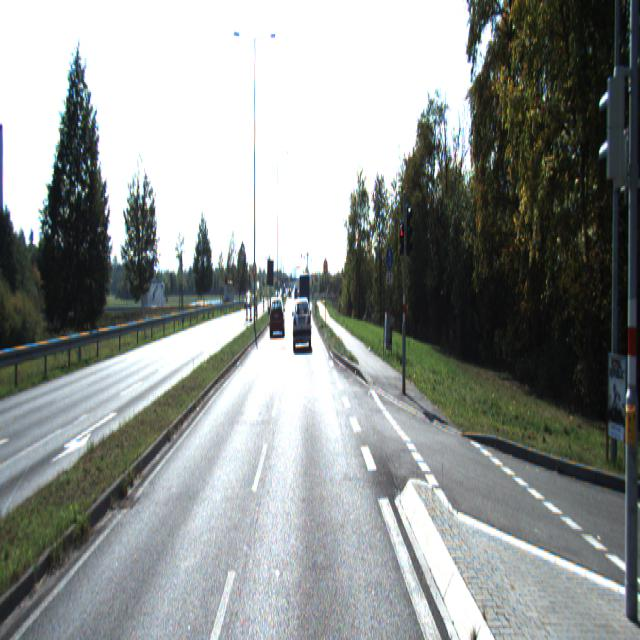Car: (293, 302, 311, 352), (298, 272, 310, 324), (270, 305, 284, 344)
